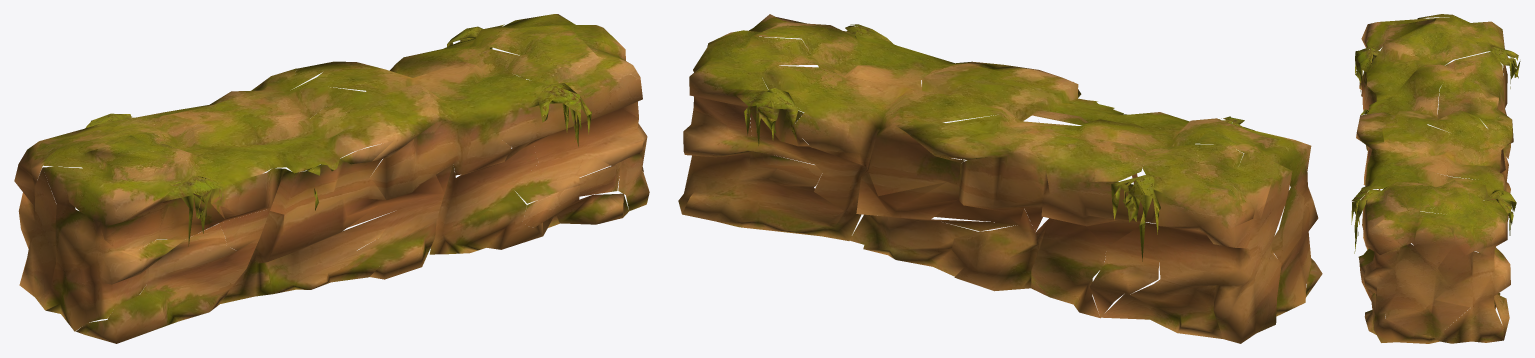
File: p_cliff_wall.glb
3 views of the same model, side by side, from view 1: azimuth 30°, elevation 25°; view 2: azimuth 150°, elevation 25°; view 3: azimuth 270°, elevation 25° (orthographic). The views are drawn at different scales.
Visible parts, largest first — view 1: tripo_node_b9da0fe8-0c90-4d1b-8a6d-aeb291e88ed2; view 2: tripo_node_b9da0fe8-0c90-4d1b-8a6d-aeb291e88ed2; view 3: tripo_node_b9da0fe8-0c90-4d1b-8a6d-aeb291e88ed2.
Part boxes in pixels (bbox=[...]): tripo_node_b9da0fe8-0c90-4d1b-8a6d-aeb291e88ed2: bbox=[14, 14, 649, 343]; tripo_node_b9da0fe8-0c90-4d1b-8a6d-aeb291e88ed2: bbox=[678, 14, 1322, 343]; tripo_node_b9da0fe8-0c90-4d1b-8a6d-aeb291e88ed2: bbox=[1351, 14, 1520, 343].
Size of the model in its own units: 3.7 by 1.01 by 1.22.
Materials: 1 (1 with a texture image).
